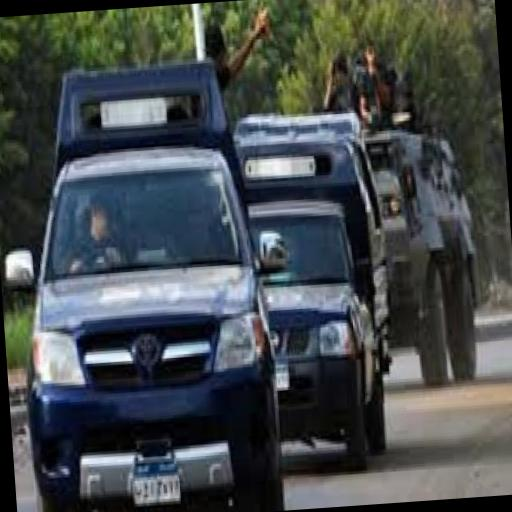Ambulance: (0, 49, 285, 512), (262, 134, 400, 496)
